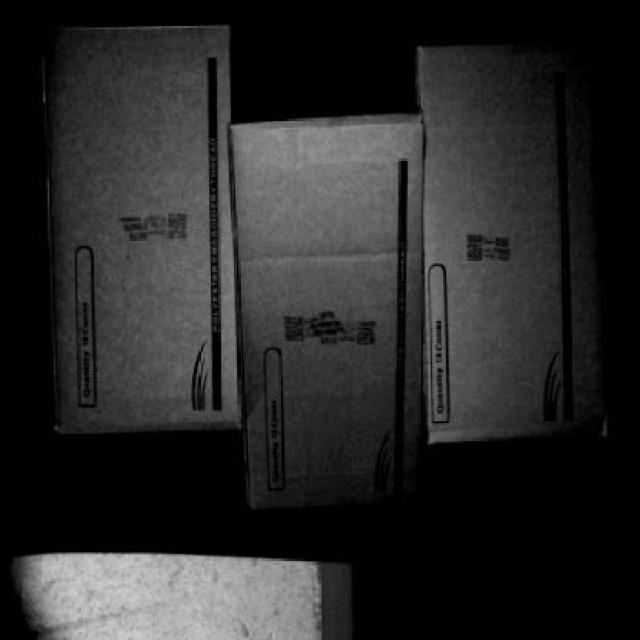cardboxes: (47, 23, 241, 434), (418, 48, 605, 444), (238, 114, 424, 506)
